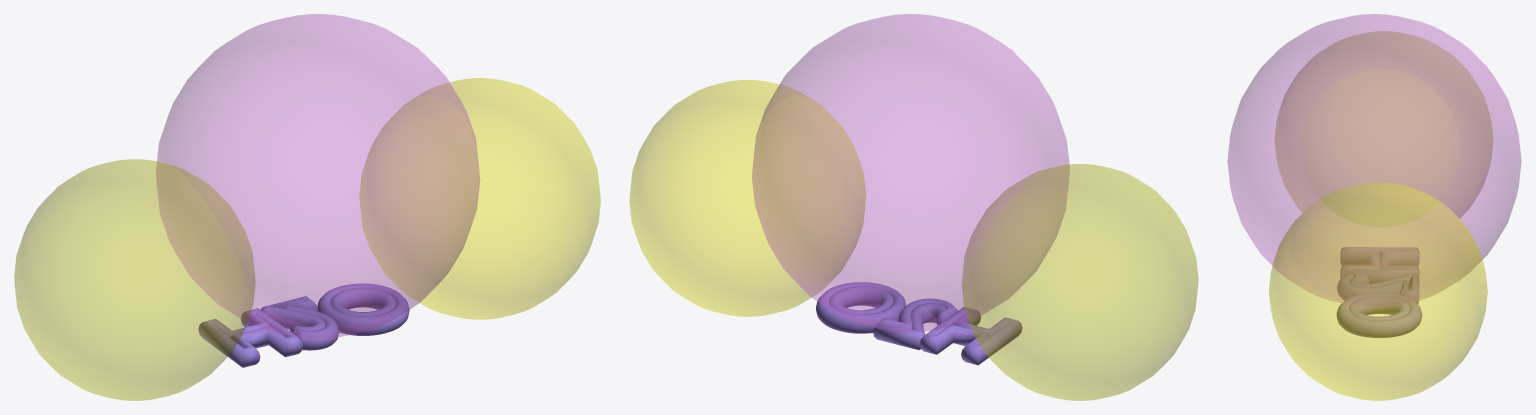
The model's file is dpsd19015-H2O.gltf.
The picture shows the model from 3 angles, left to right: view 1: azimuth 30°, elevation 25°; view 2: azimuth 150°, elevation 25°; view 3: azimuth 270°, elevation 25°; orthographic projection. The views are drawn at different scales.
Visible parts, largest first — view 1: Sphere, Sphere.002, Sphere.001, Text; view 2: Sphere, Sphere.002, Sphere.001, Text; view 3: Sphere, Sphere.001, Sphere.002, Text.
Part boxes in pixels (bbox=[...]): Sphere: bbox=[156, 14, 479, 338]; Sphere.002: bbox=[14, 159, 255, 400]; Sphere.001: bbox=[359, 78, 600, 319]; Text: bbox=[198, 283, 409, 367]; Sphere: bbox=[752, 14, 1069, 331]; Sphere.002: bbox=[962, 164, 1198, 400]; Sphere.001: bbox=[629, 80, 865, 316]; Text: bbox=[816, 282, 1022, 365]; Sphere: bbox=[1227, 14, 1521, 307]; Sphere.001: bbox=[1269, 182, 1487, 400]; Sphere.002: bbox=[1275, 31, 1493, 218]; Text: bbox=[1336, 247, 1422, 337].
Bounding box in the file's own units: 5.26 × 2.93 × 2.69.
